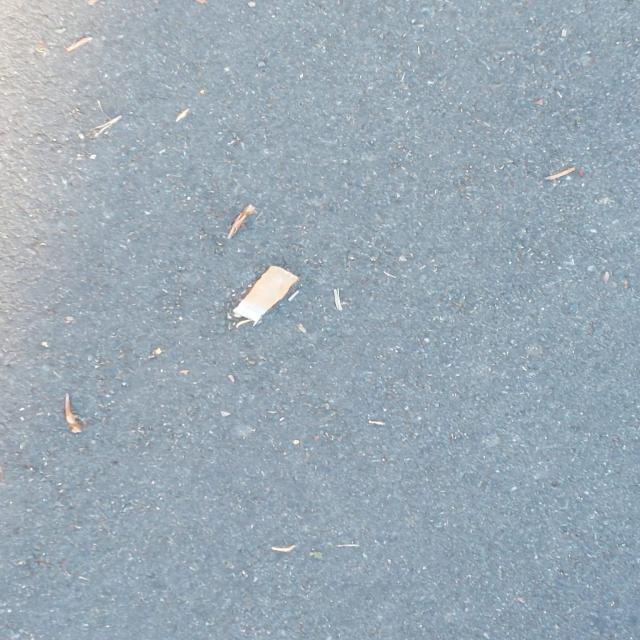other waste: (232, 265, 298, 327)
